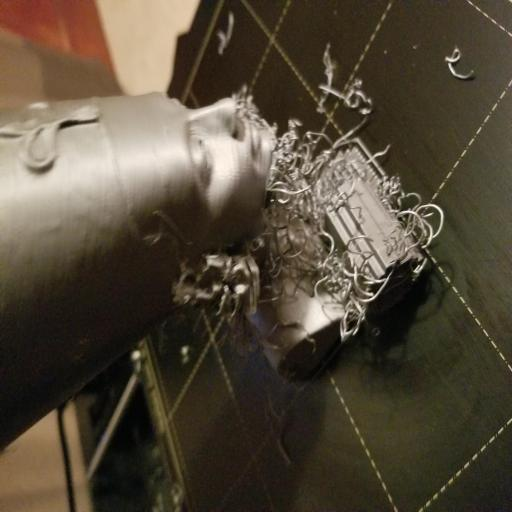blobs: (250, 86, 448, 356), (167, 238, 268, 344)
